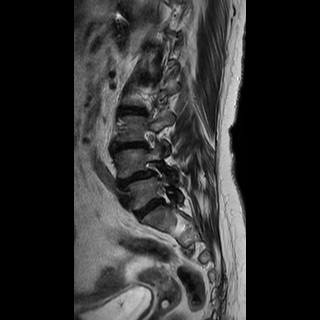LFS0: (137, 123, 163, 155)
LFS1: (151, 178, 177, 212)
